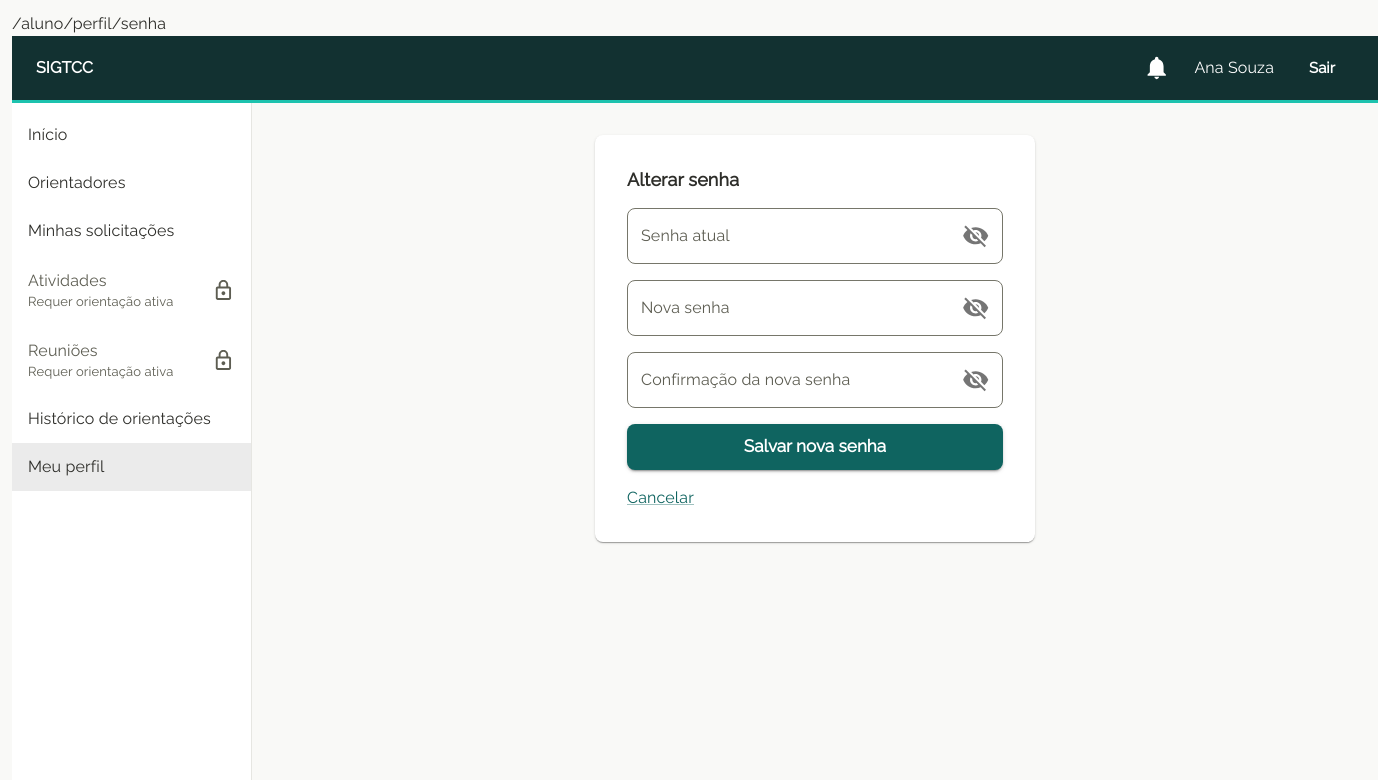
Test: ChangePasswordPage: o formulário › com a confirmação diferente, o erro aparece na confirmação e nada é enviado
Expected: the heading "Alterar senha" is shown, [627,169,739,190]
Step 1. Type "senha-atual-123" into the password field labelled "Senha atual" → (784, 236), box [627,208,942,264]
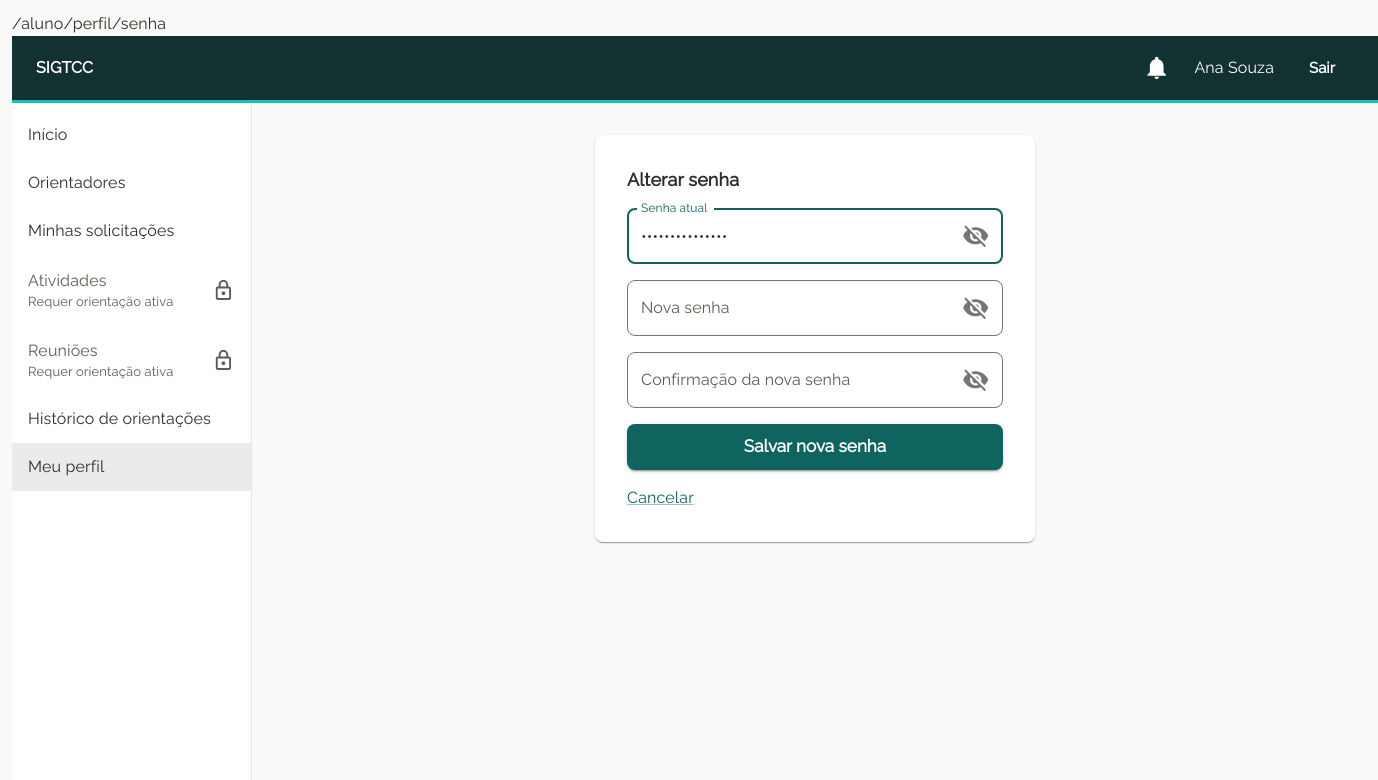
Step 2. Type "NovaSenha#456" into the password field labelled "Nova senha" → (784, 308), box [627,280,942,336]
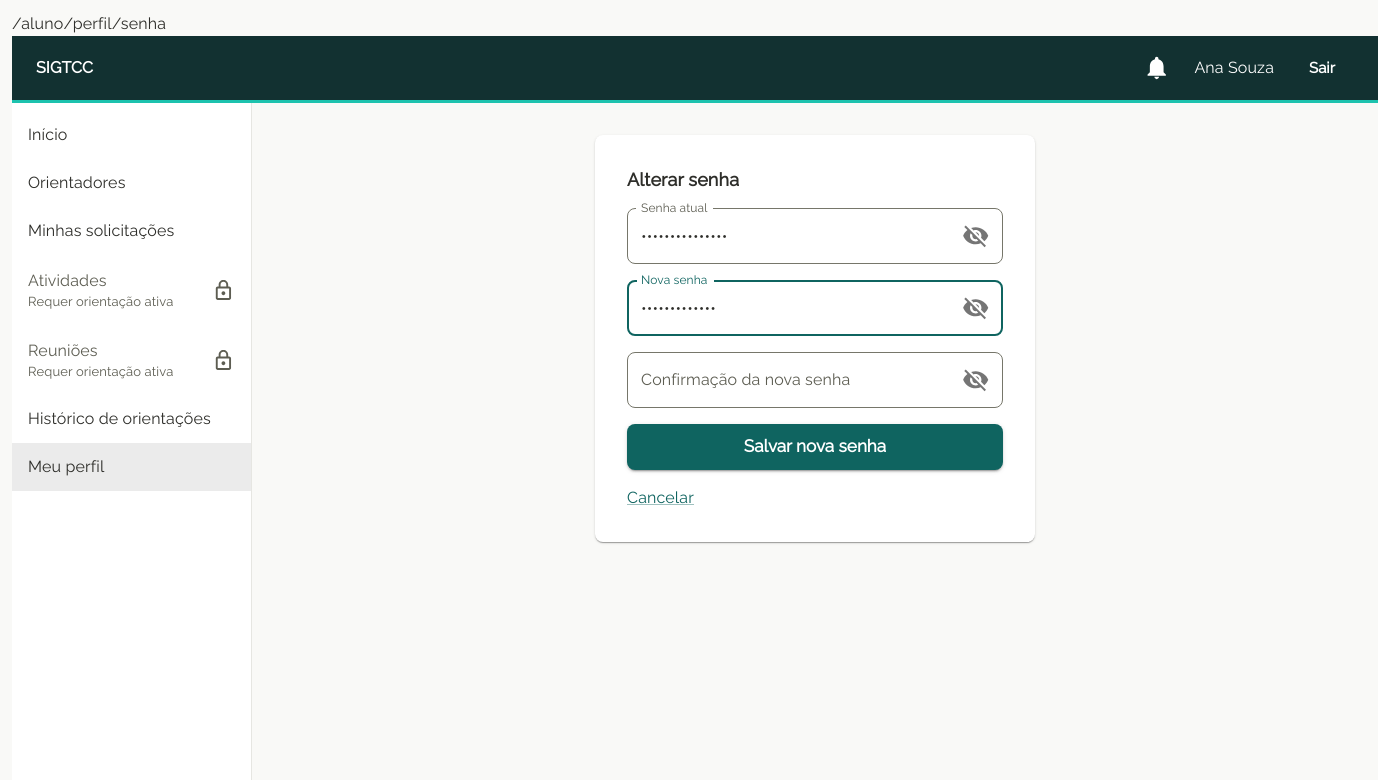
Step 3. Type "OutraSenha#789" into the password field labelled "Confirmação da nova senha" → (784, 380), box [627,352,942,408]
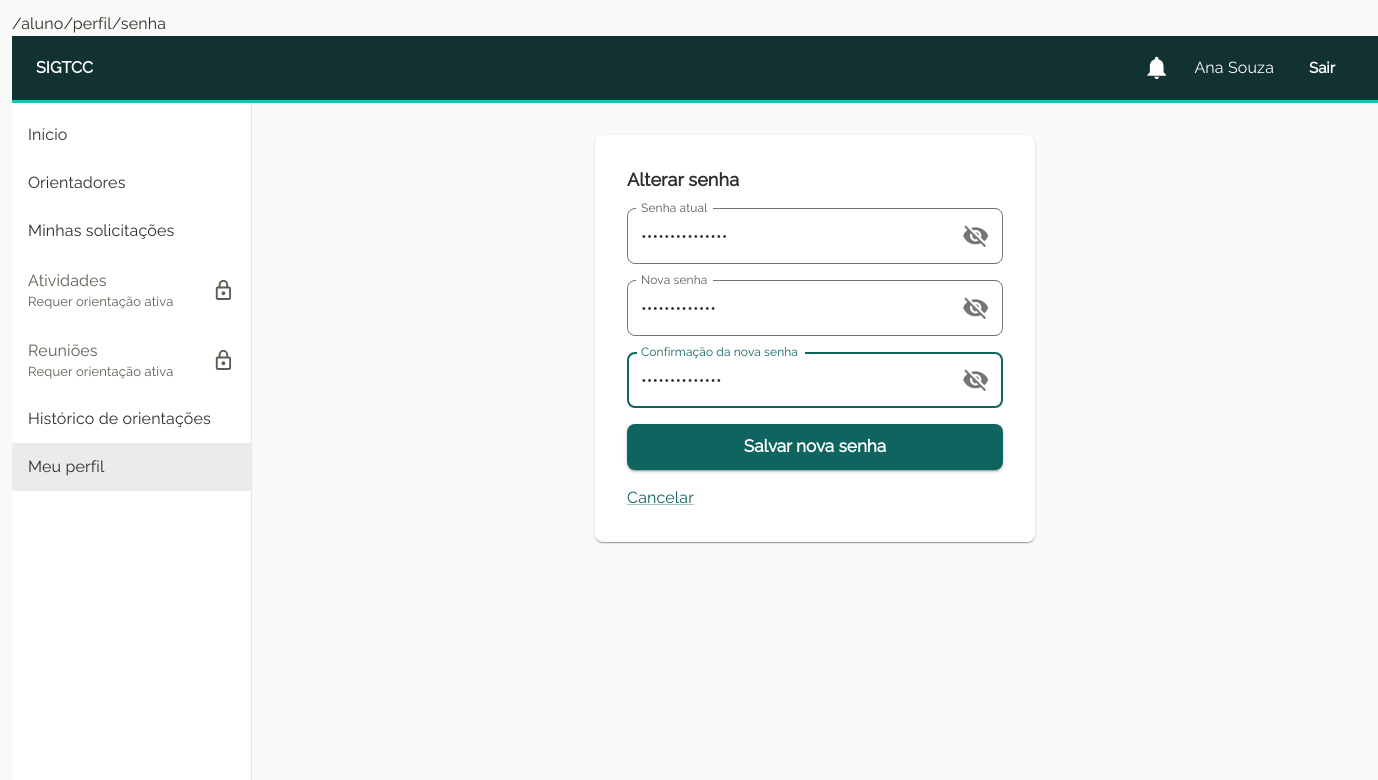
Step 4. Click the button "Salvar nova senha" → (815, 447), box [627,424,1003,470]
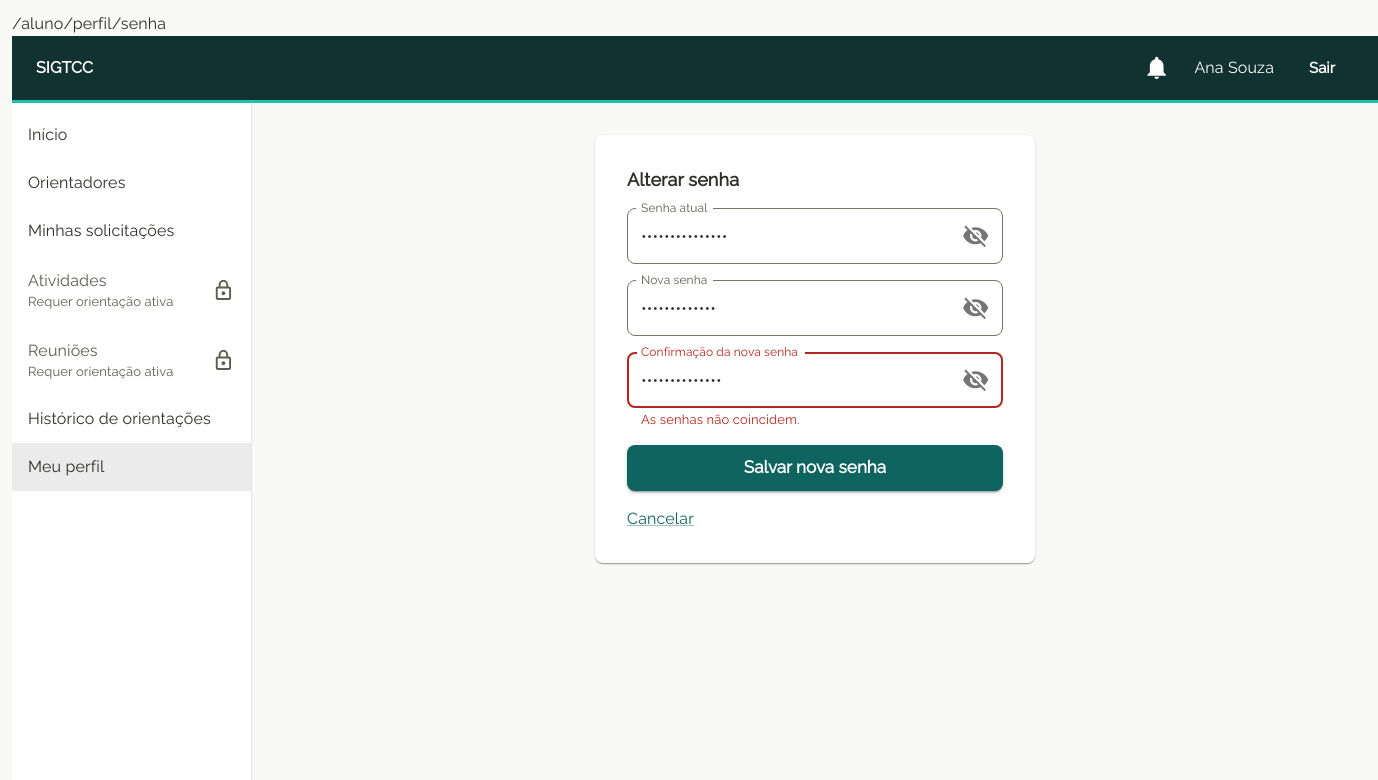
Result: the text "As senhas não coincidem." is shown at [641,412,800,427]
